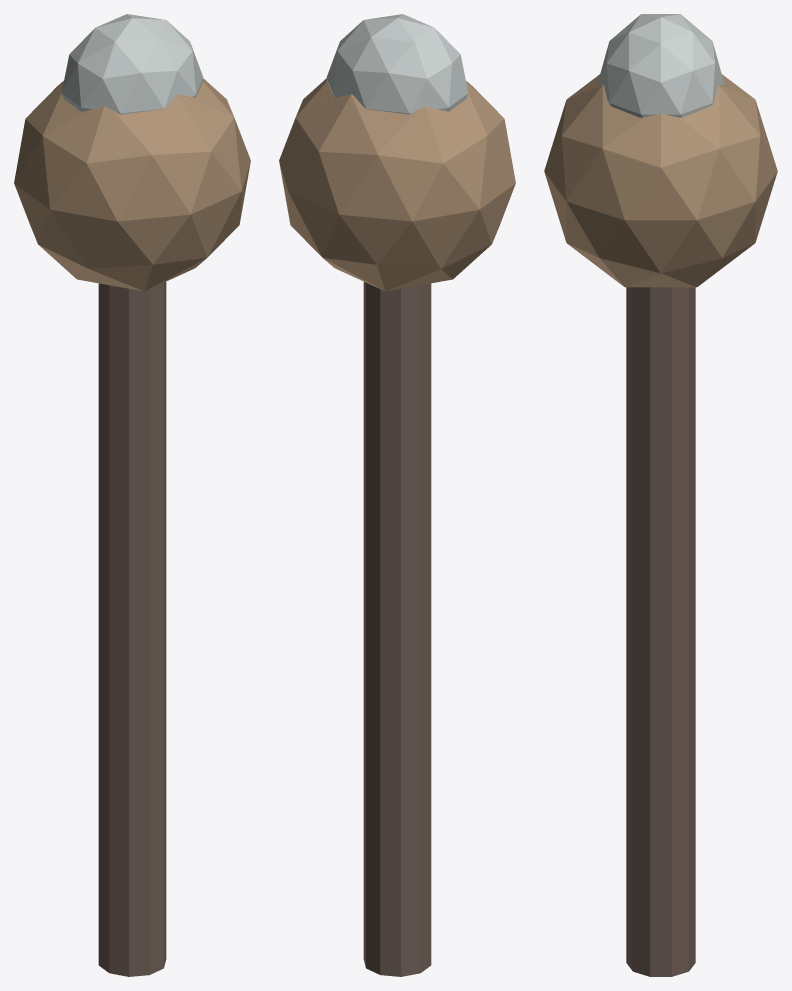
The model's file is oak-wand.glb.
The picture shows the model from 3 angles, left to right: view 1: azimuth 30°, elevation 25°; view 2: azimuth 150°, elevation 25°; view 3: azimuth 270°, elevation 25°; orthographic projection.
Parts seen in each view (by area): view 1: WandShaft, WandCore, WandWoodKnob; view 2: WandShaft, WandCore, WandWoodKnob; view 3: WandShaft, WandCore, WandWoodKnob.
Part boxes in pixels (x1=…): WandShaft: x1=98, y1=282, x2=166, y2=976; WandCore: x1=14, y1=78, x2=250, y2=291; WandWoodKnob: x1=61, y1=14, x2=203, y2=114; WandShaft: x1=363, y1=282, x2=431, y2=976; WandCore: x1=279, y1=78, x2=515, y2=291; WandWoodKnob: x1=326, y1=14, x2=468, y2=114; WandShaft: x1=626, y1=287, x2=695, y2=976; WandCore: x1=544, y1=74, x2=777, y2=287; WandWoodKnob: x1=597, y1=14, x2=724, y2=117.
Size of the model in its own units: 0.4375 by 1.97 by 0.44.
